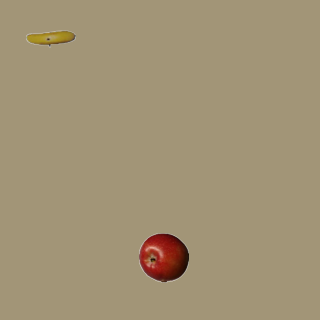Apple Braeburn: (138, 232, 188, 282)
Banana: (25, 13, 75, 63)
